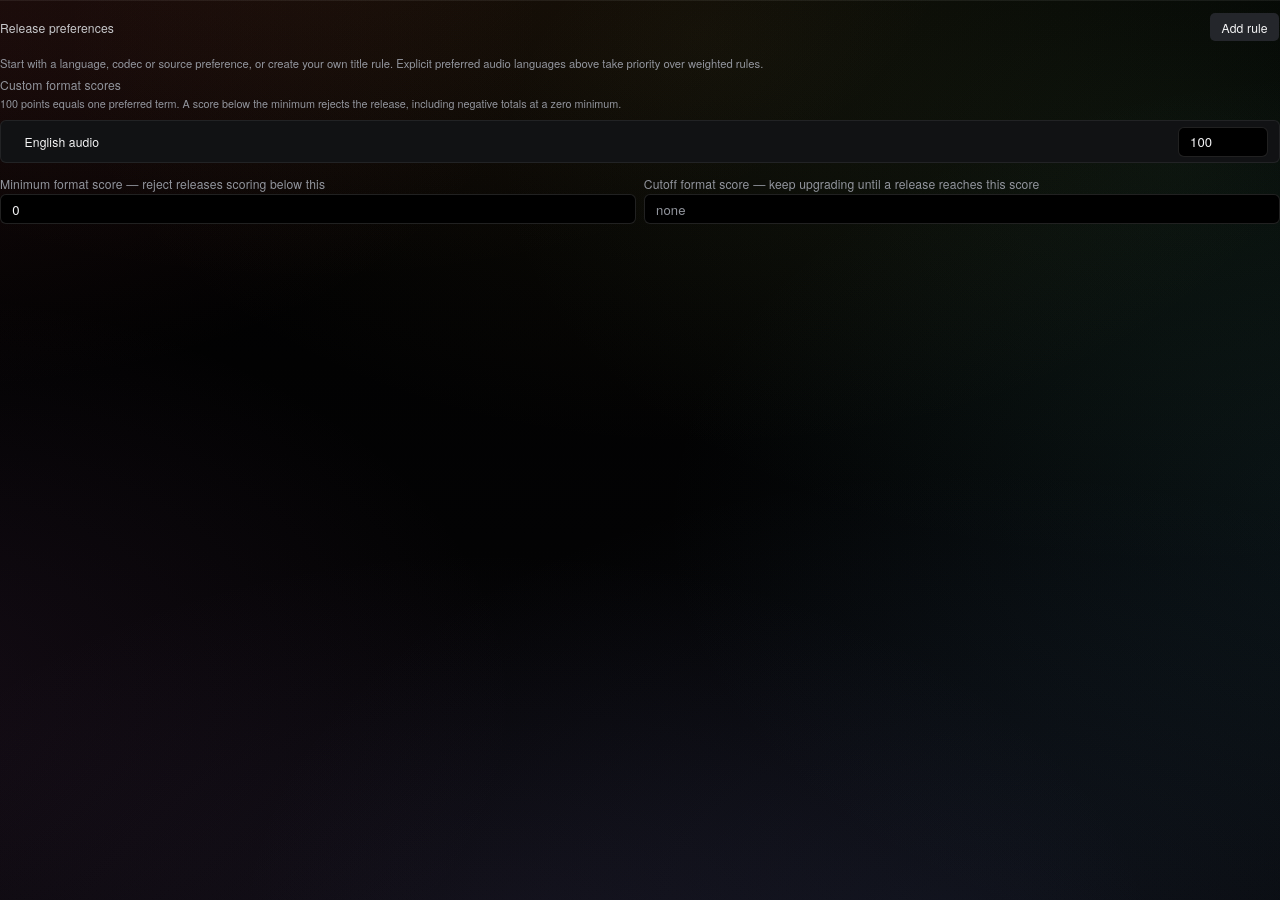
persists edited conditions while keeping the score on the profile draft
Click the button with aria-label "Edit English audio". click: [62, 142]
box: [12,127,112,157]
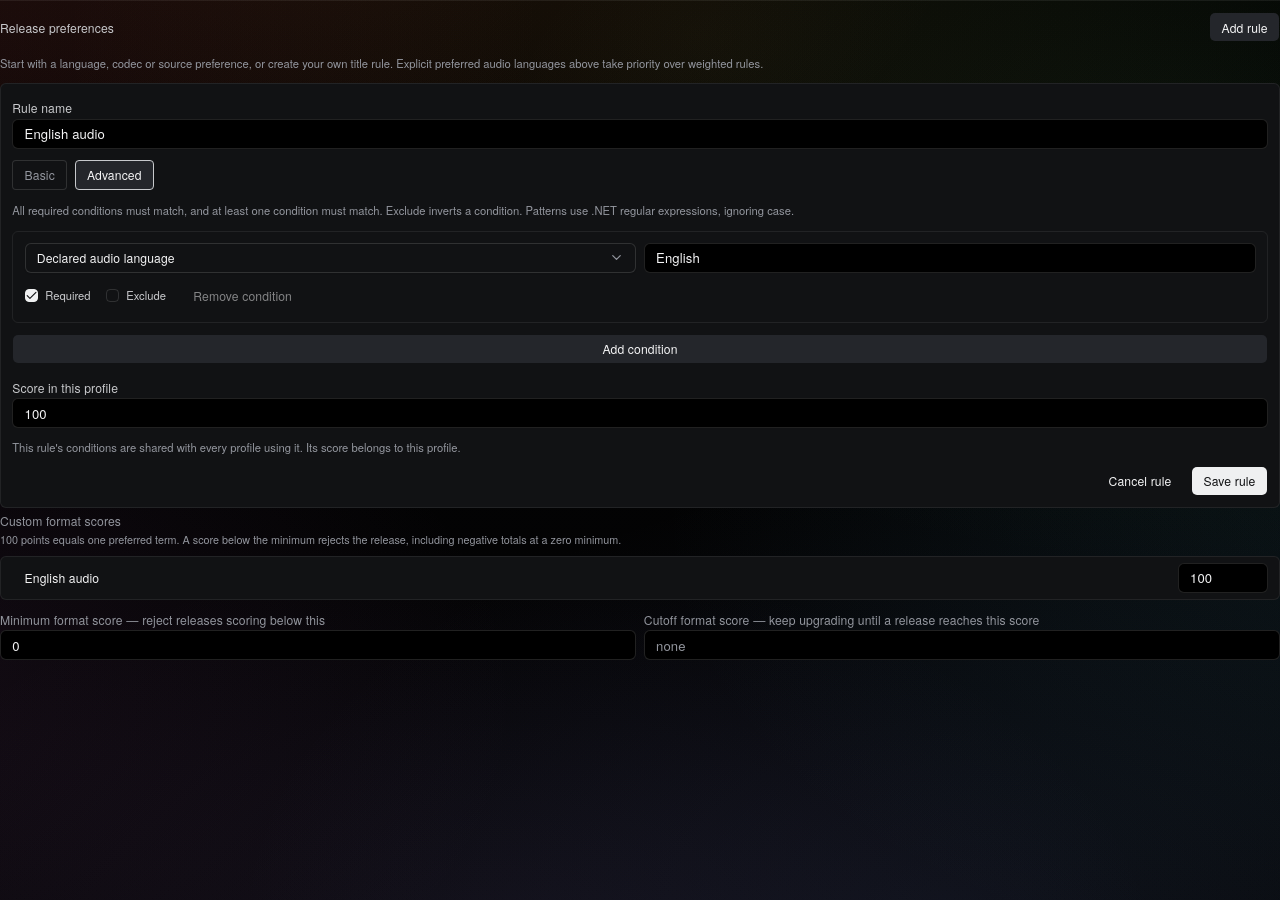
Replace the text in the field named "Condition 1 value" with "ENG". click: [950, 258]
box: [644,243,1256,273]
Click the 2nd checkbox named "Exclude". click: [112, 295]
box: [106,289,119,302]
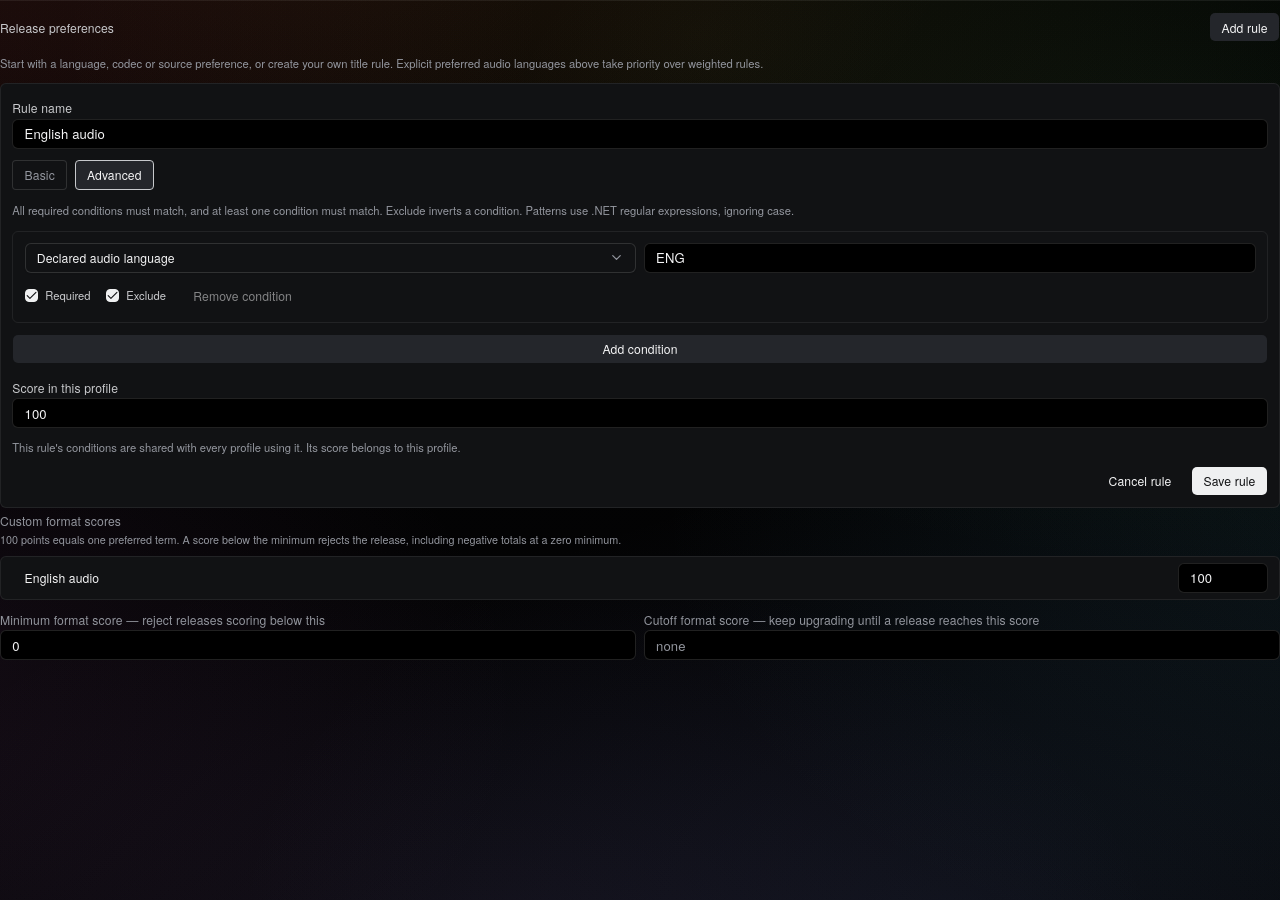
Replace the text in the number field labelled "Score in this profile" with "75". click: [640, 413]
box: [12,398,1268,428]
Click the radio button labelled "Basic". click: [40, 175]
box: [12,160,67,190]
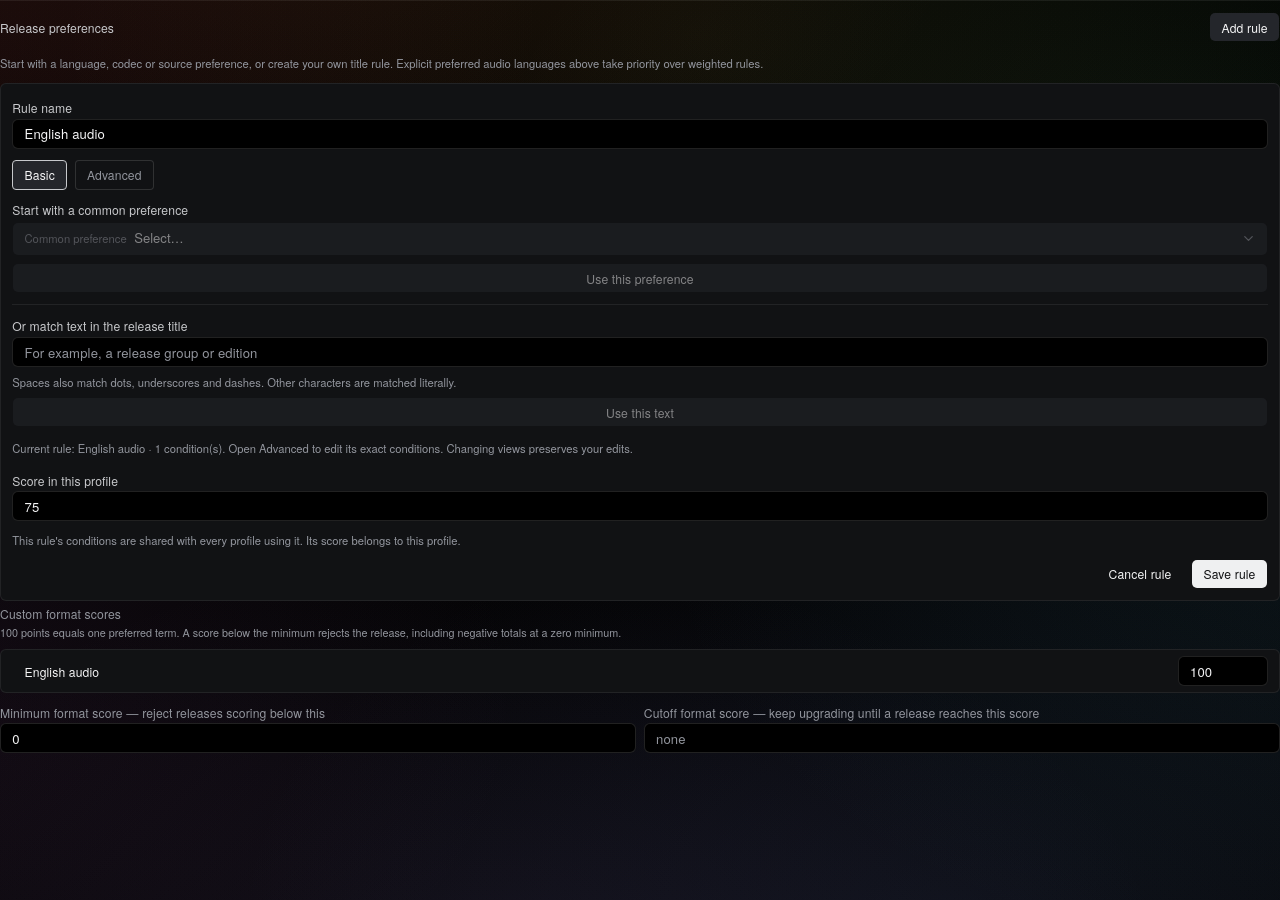
Click the radio button labelled "Advanced". click: [114, 175]
box: [75,160,154,190]
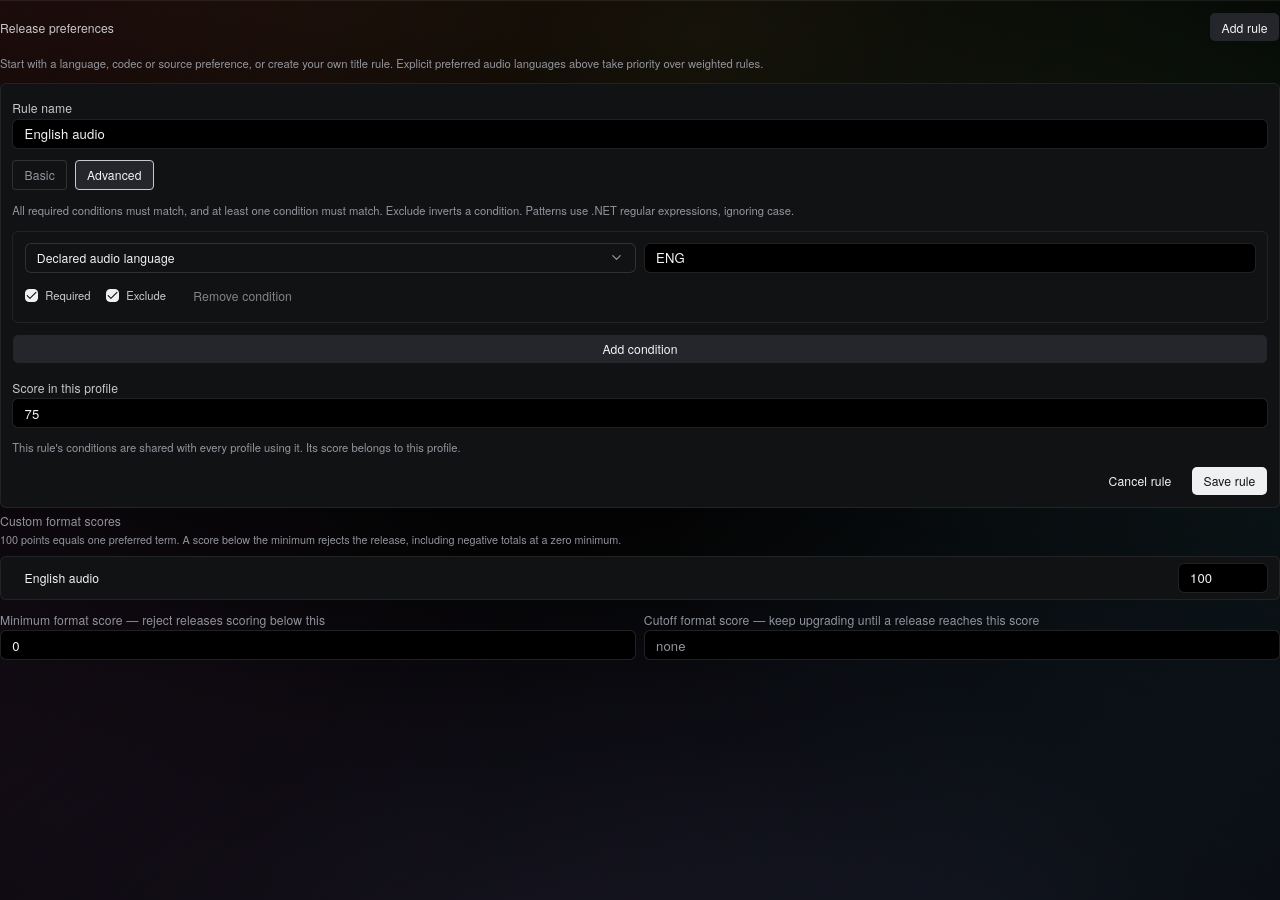
Check: the 2nd checkbox named "Exclude" is checked, box [106,289,119,302]
Click the button "Save rule". click: [1229, 481]
box: [1191,466,1268,496]
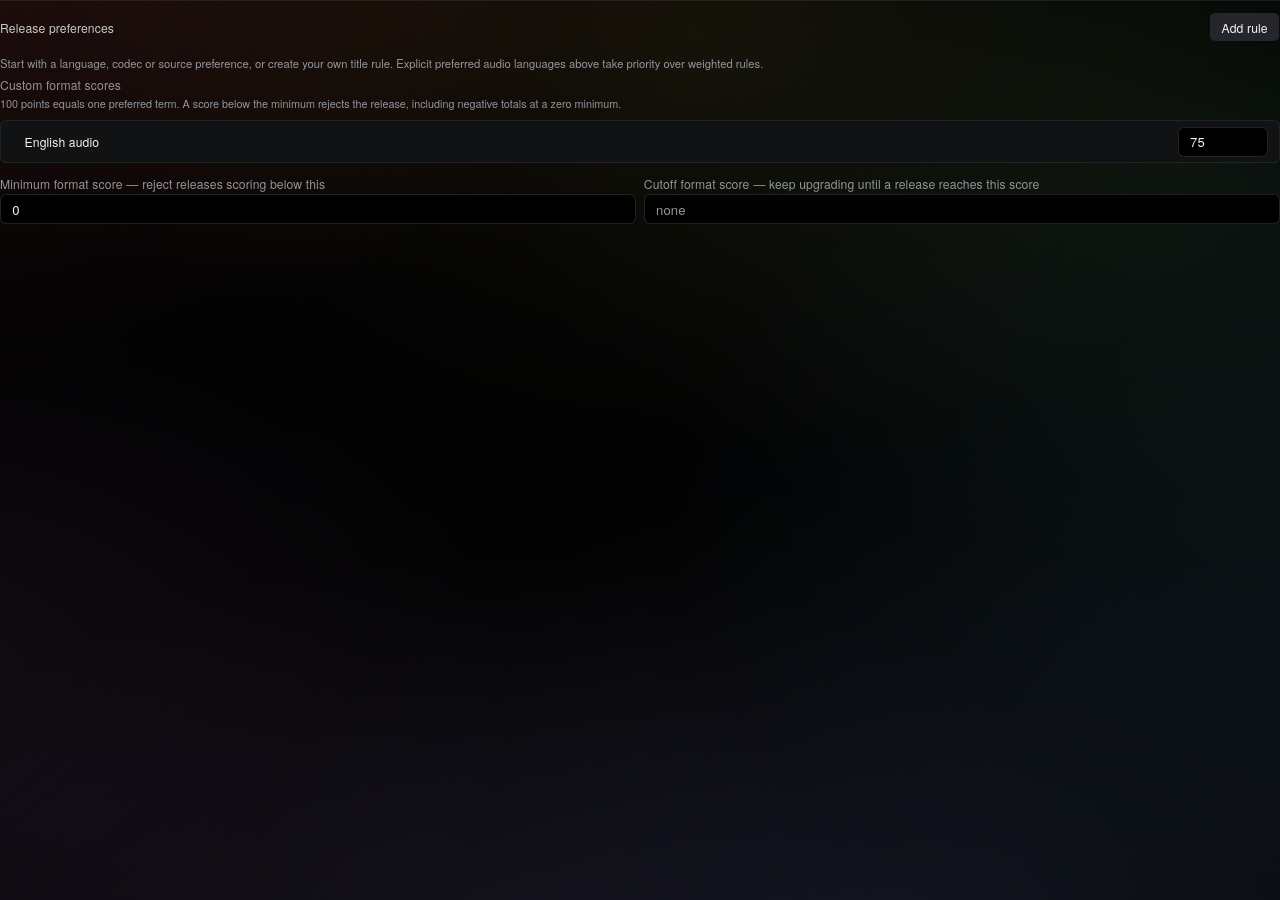
Click the button with aria-label "Edit English audio". click: [62, 142]
box: [12,127,112,157]
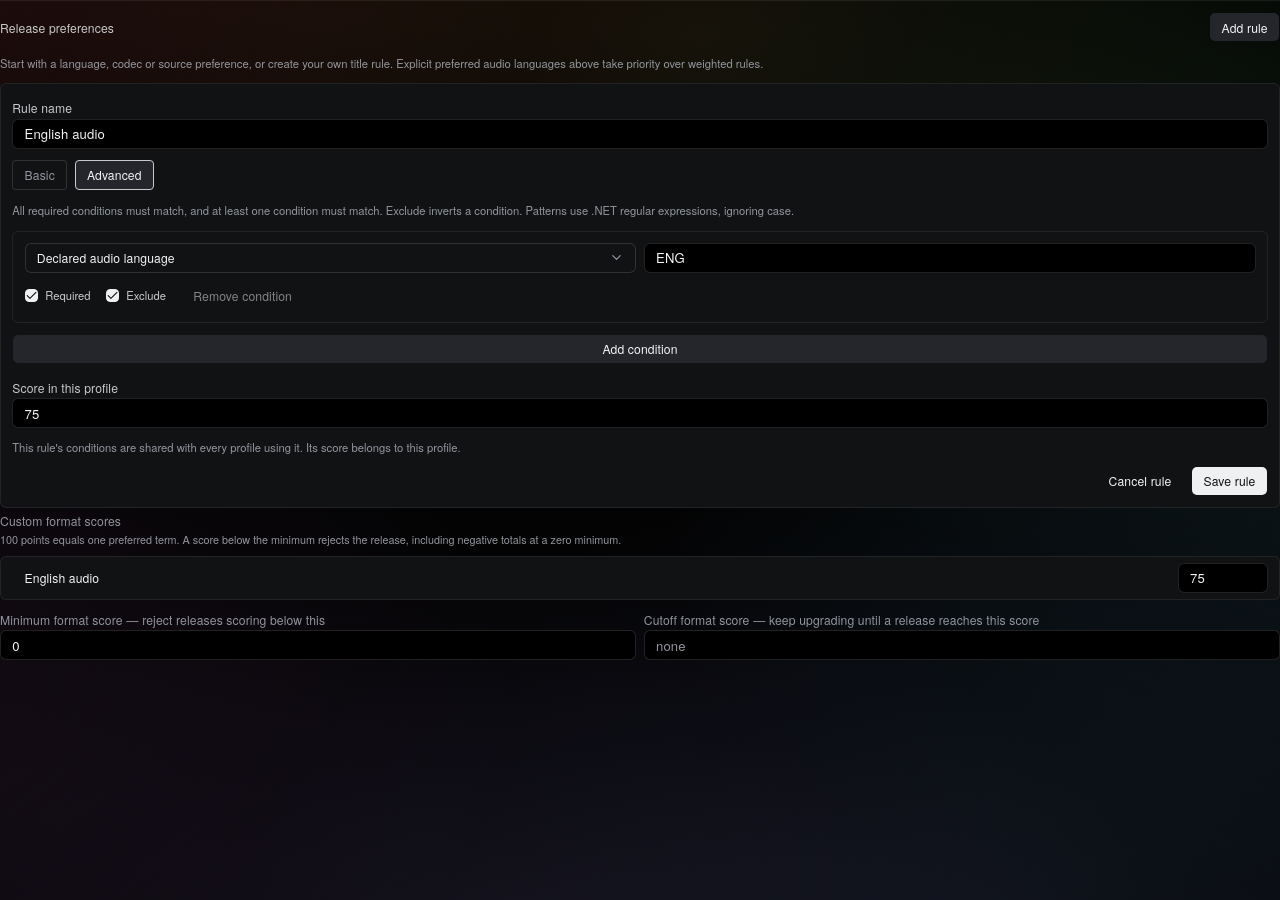
Check: the field named "Condition 1 value" holds "ENG", box [644,243,1256,273]
Check: the number field labelled "Score in this profile" holds "75", box [12,398,1268,428]
